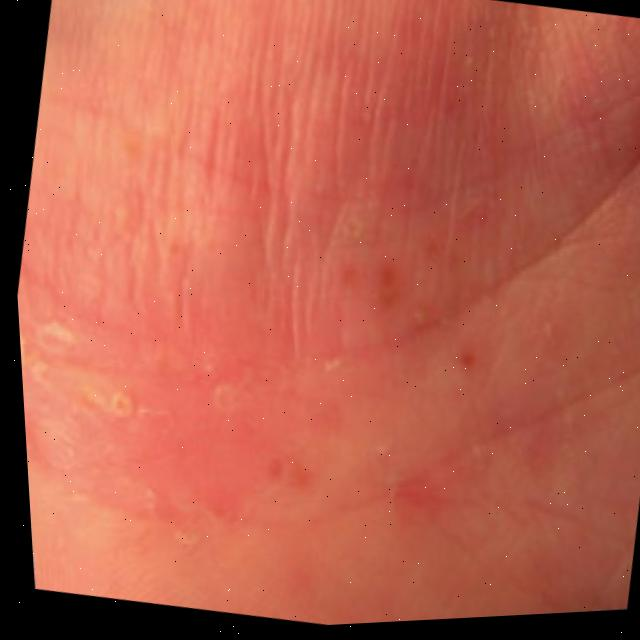Eczema: (42, 0, 589, 559)
